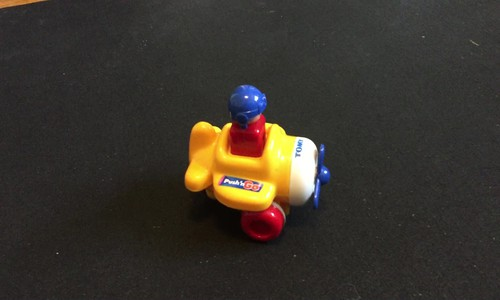toy: (179, 85, 331, 241)
